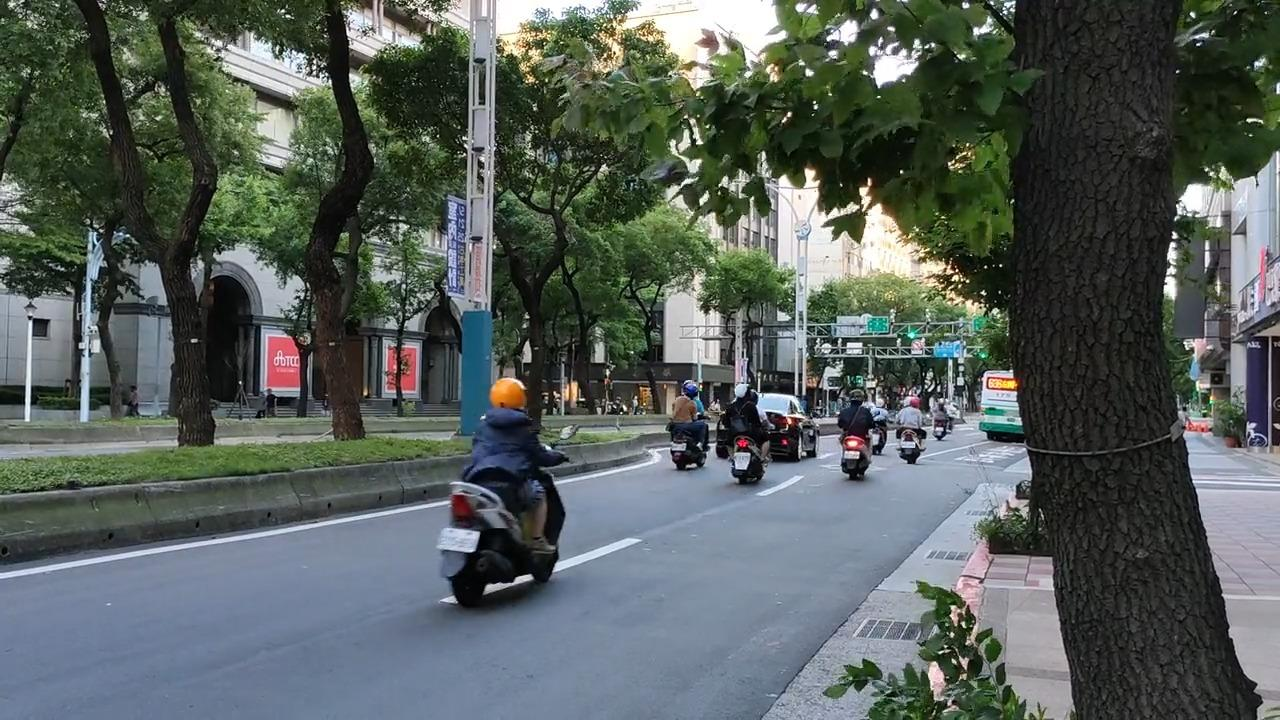driver: (437, 378, 580, 606), (723, 383, 773, 484), (665, 380, 712, 469), (836, 389, 880, 479), (894, 396, 927, 464)
helmet: (490, 378, 527, 412), (734, 383, 751, 401), (848, 389, 864, 406), (684, 384, 698, 401), (910, 397, 921, 408), (751, 389, 758, 405)
